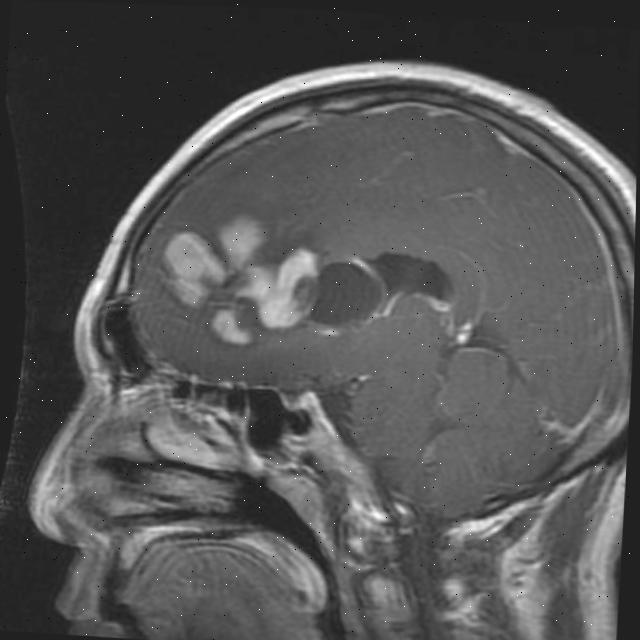Glioma: (157, 209, 328, 354)
